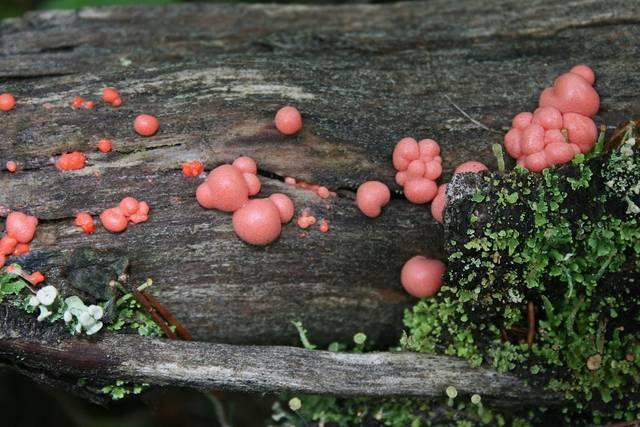poisonous_mushroom: (0, 84, 151, 253), (502, 65, 601, 172), (388, 110, 476, 212), (194, 163, 249, 212), (231, 197, 281, 245), (399, 254, 445, 298), (354, 179, 390, 217), (273, 105, 302, 135), (132, 113, 160, 136)
